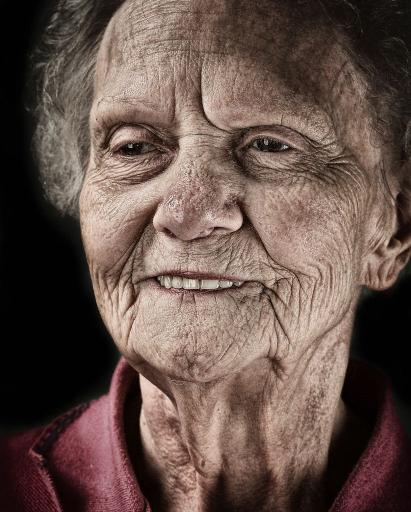left_eye: (245, 133, 301, 159)
left_lip_corner: (242, 274, 271, 301)
right_eye: (109, 137, 170, 163)
right_lip_corner: (137, 268, 163, 294)
